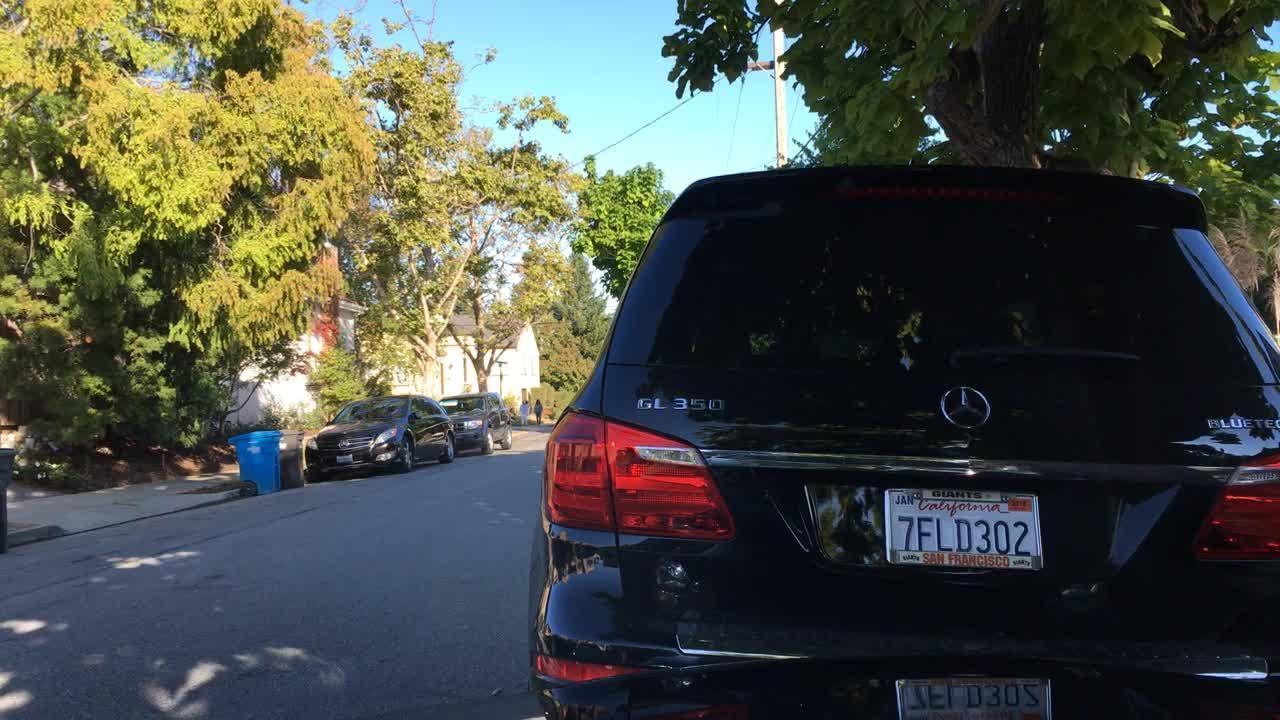Mercedes: (927, 377, 1002, 441)
